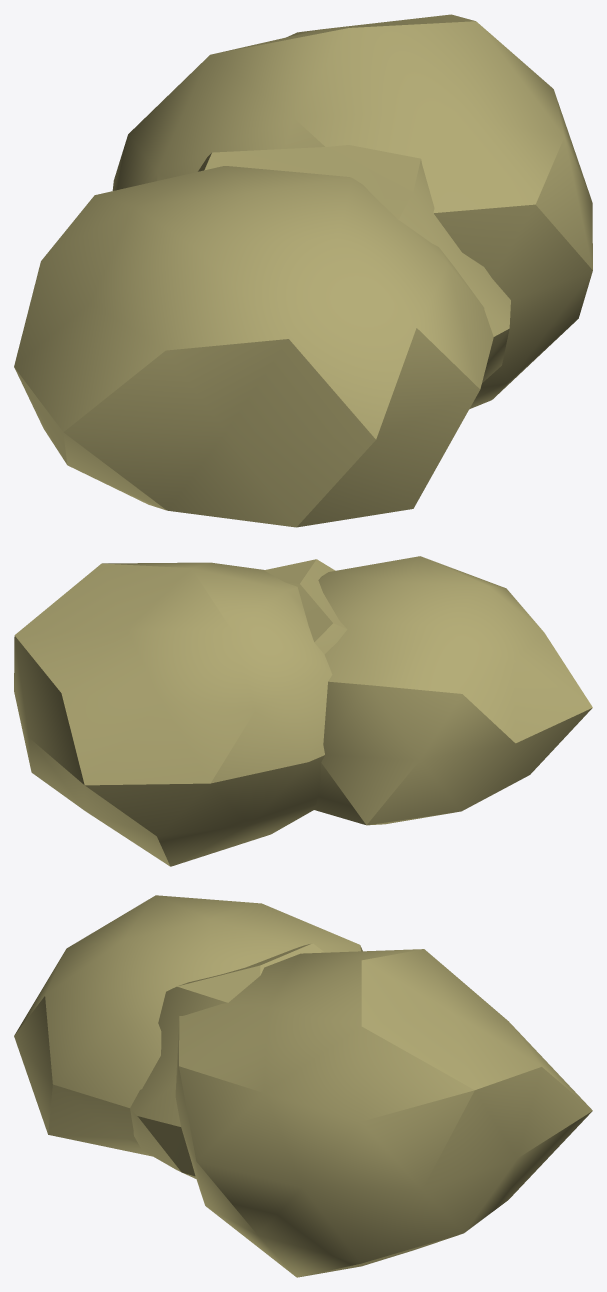
The model's file is bush_dry.glb.
The picture shows the model from 3 angles, top to bottom: view 1: azimuth 30°, elevation 25°; view 2: azimuth 150°, elevation 25°; view 3: azimuth 270°, elevation 25°; orthographic projection. The views are drawn at different scales.
Visible parts, largest first — view 1: bush_dry; view 2: bush_dry; view 3: bush_dry.
Part boxes in pixels (left/top/right/bottom): bush_dry: left=14, top=14, right=592, bottom=527; bush_dry: left=14, top=556, right=592, bottom=866; bush_dry: left=14, top=895, right=592, bottom=1277.
Bounding box in the file's own units: 2.87 × 1.72 × 2.95.
